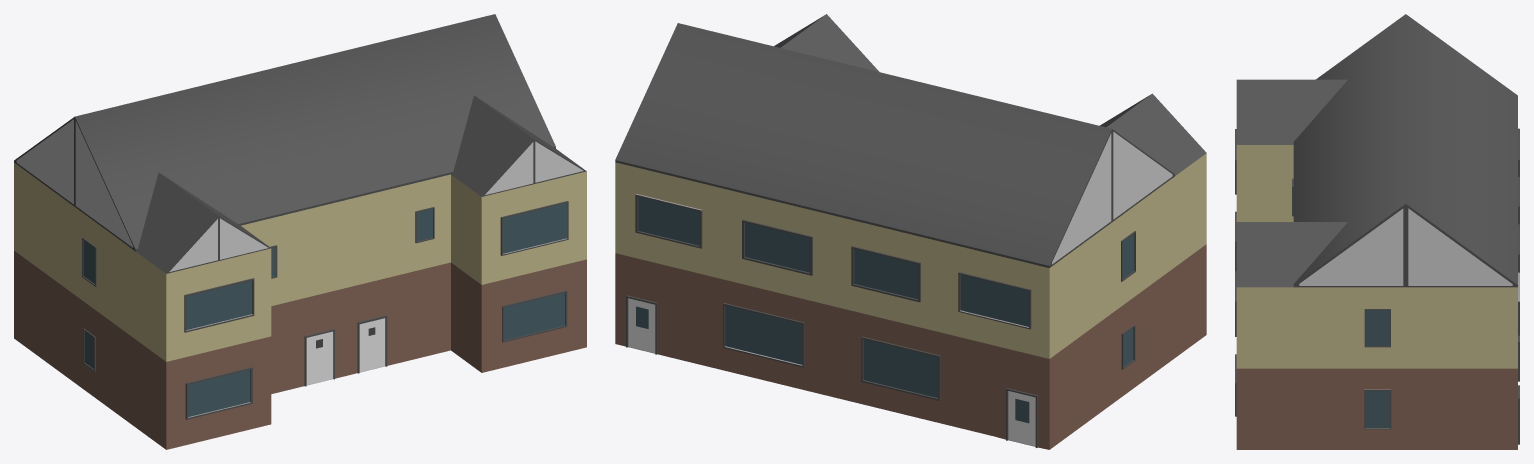
File: MidHouse3.fbx
3 renders of one model, left to right at view 1: azimuth 30°, elevation 25°; view 2: azimuth 150°, elevation 25°; view 3: azimuth 270°, elevation 25°, orthographic. The views are drawn at different scales.
Parts seen in each view (by area): view 1: pCube3; view 2: pCube3; view 3: pCube3.
Part boxes in pixels (box(x1,y1,x2,y2)): pCube3: box(14, 14, 586, 449); pCube3: box(615, 14, 1206, 449); pCube3: box(1235, 14, 1519, 449).
Size of the model in its own units: 20.1 by 12.12 by 12.69.
